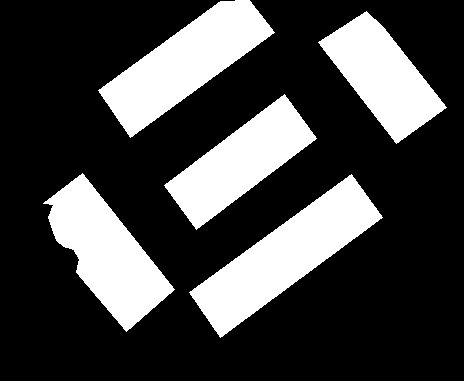parkingspot: (189, 174, 382, 337), (98, 0, 274, 137), (43, 173, 174, 331), (164, 94, 316, 229), (318, 11, 446, 143)
